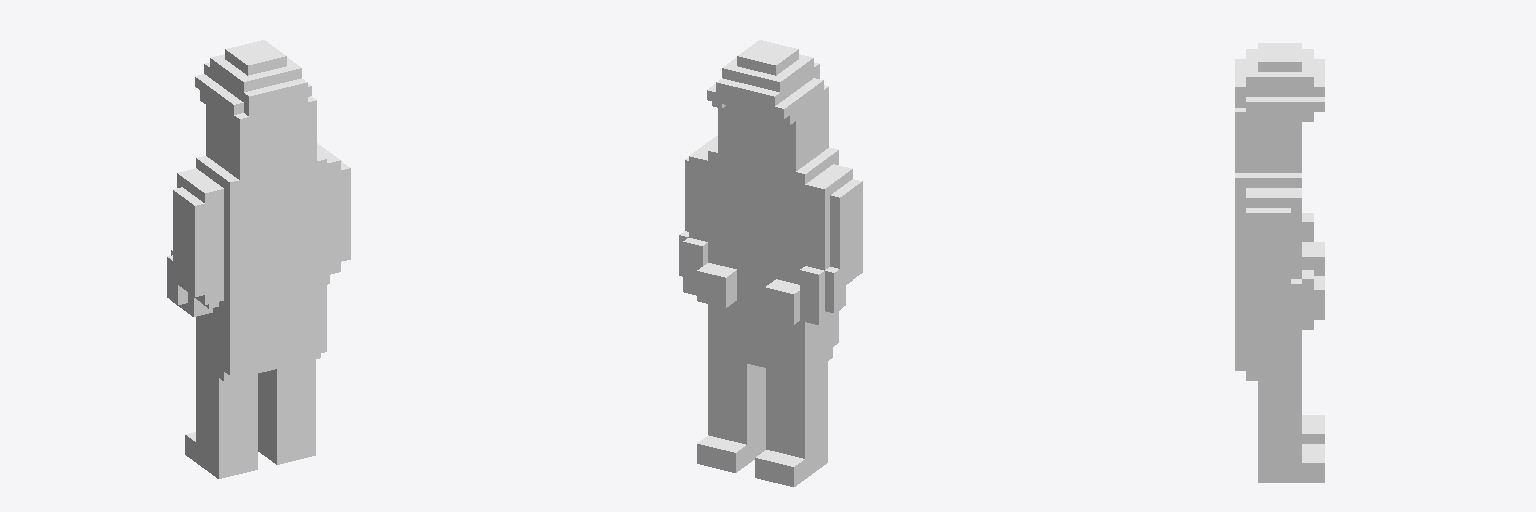
The model's file is person-1.obj.
3 renders of one model, left to right at view 1: azimuth 30°, elevation 25°; view 2: azimuth 150°, elevation 25°; view 3: azimuth 270°, elevation 25°, orthographic.
Parts seen in each view (by area): view 1: object 1; view 2: object 1; view 3: object 1.
Boxes of the visible parts, box(x1,y1,x2,y2) form: object 1: box(167, 40, 350, 478); object 1: box(679, 40, 862, 486); object 1: box(1235, 43, 1324, 482).
Size of the model in its own units: 1.6 by 4 by 0.8.